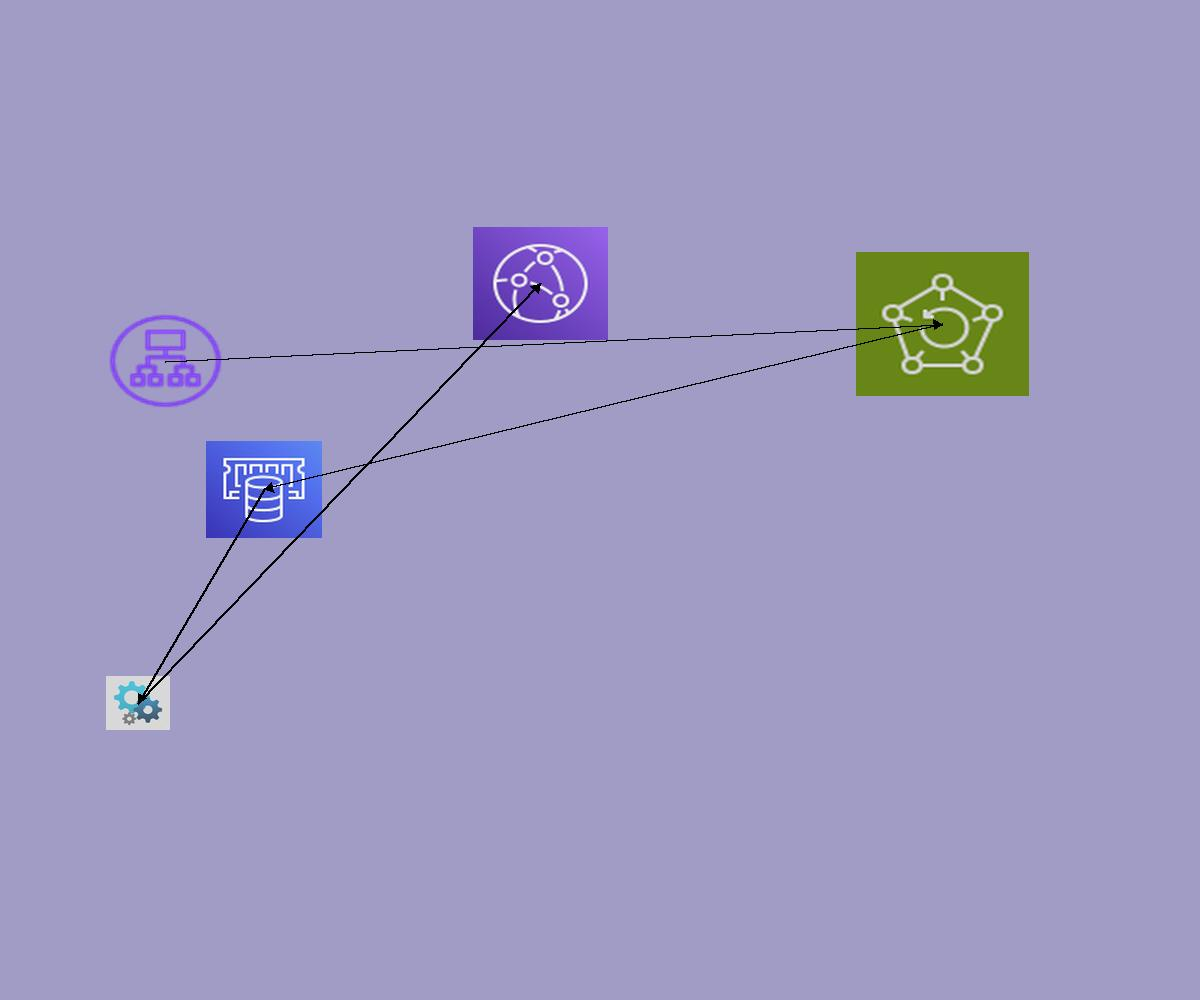AWS-Backup: (856, 252, 1029, 396)
AWS-CloudFront: (473, 227, 608, 340)
AWS-ElastiCache: (206, 441, 322, 538)
AWS-Res_Elastic-Load-Balancing_Application-Load-Balancer: (105, 311, 226, 411)
Azure_api: (106, 676, 170, 730)
